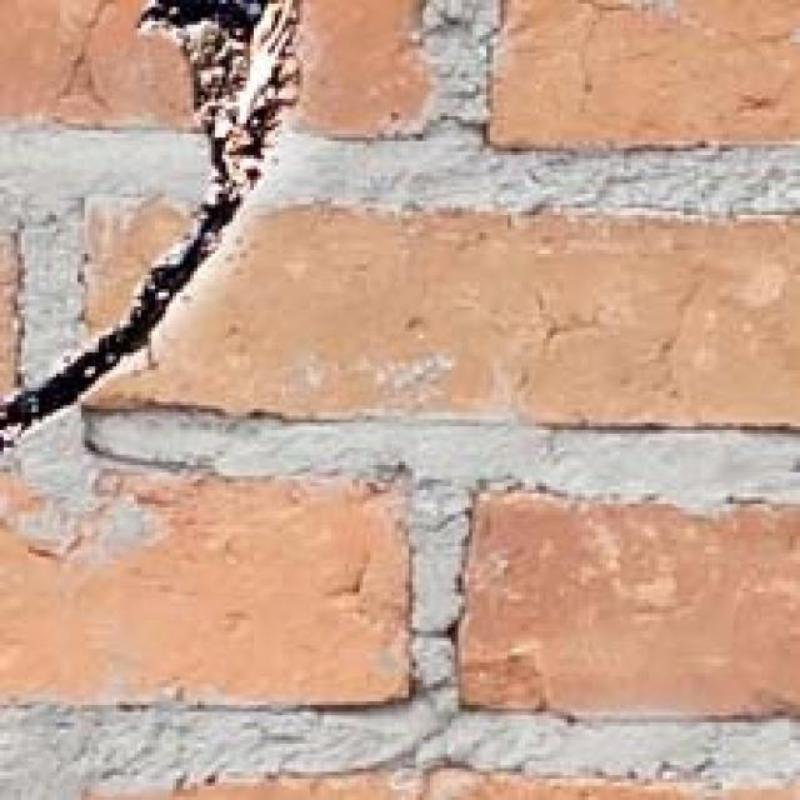crack: (0, 0, 297, 451), (406, 616, 464, 650)
